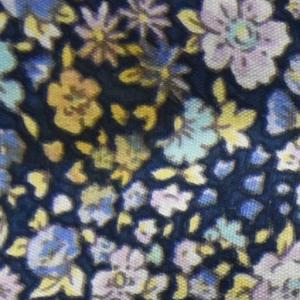Oil Stain: (14, 20, 188, 195)
